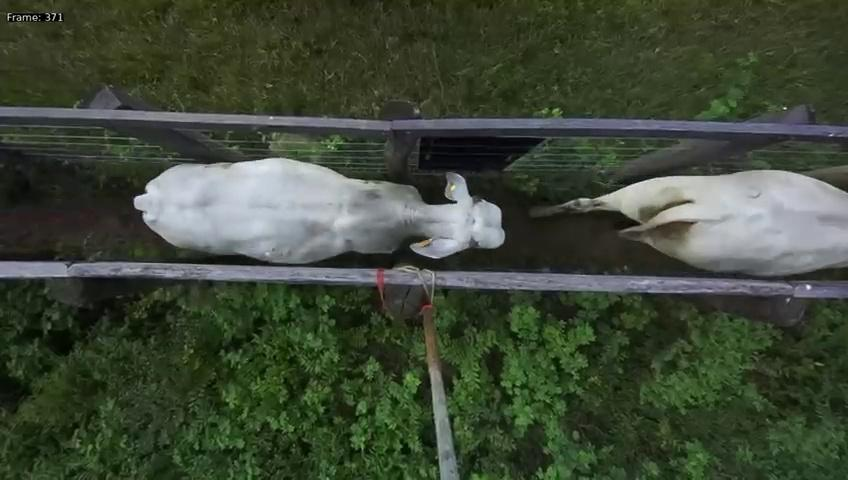cattle: (134, 133, 509, 266)
